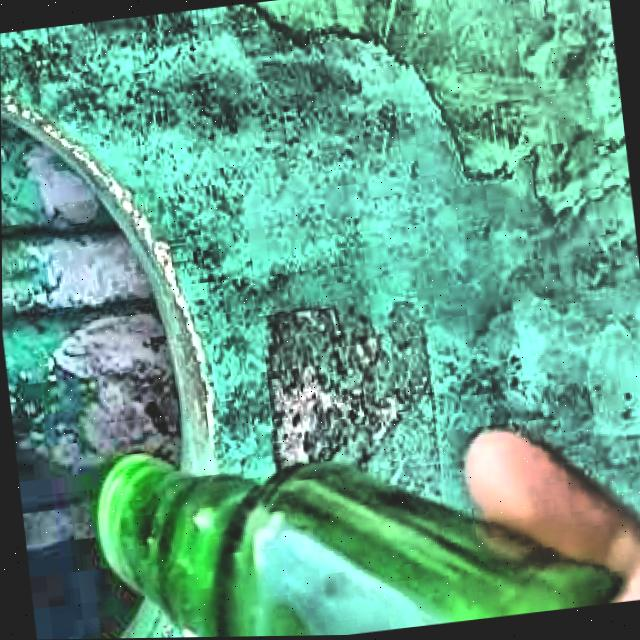glass: (98, 457, 617, 638)
